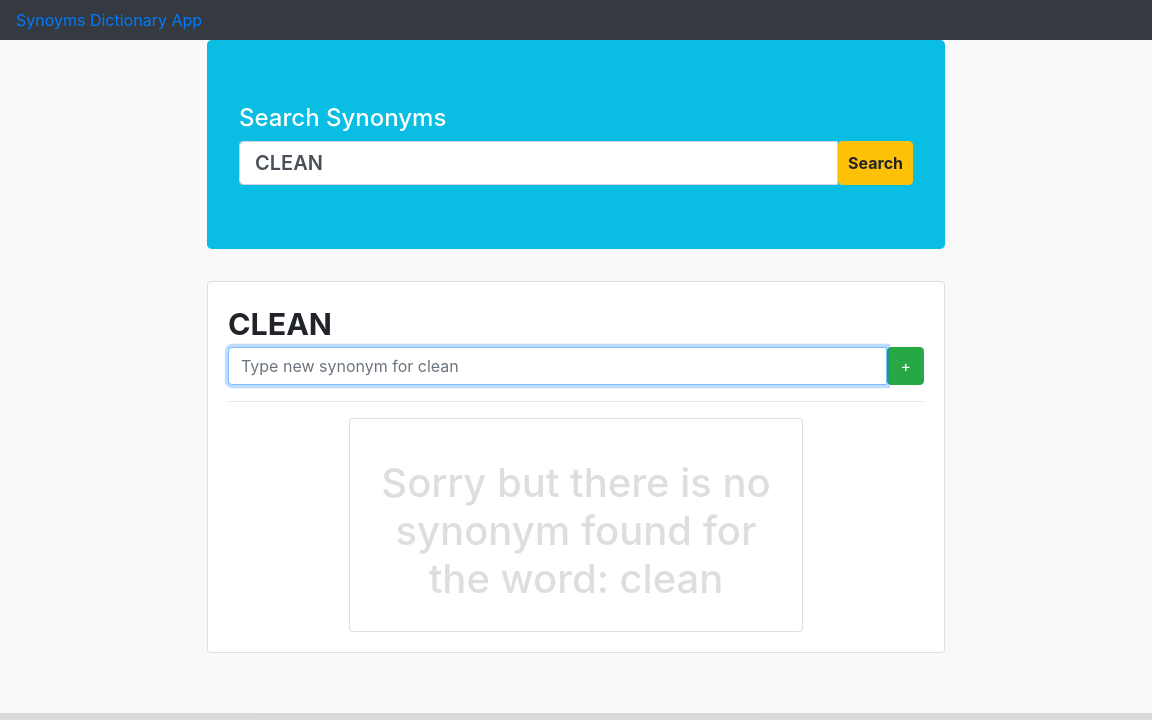
Test: <App/> › Adding synonyms › When the add button is pressed, if the input field has text, it displays synonyms
Type "Clear" into the field with class "synonym-input". click: (558, 366)
box: [228,347,887,385]
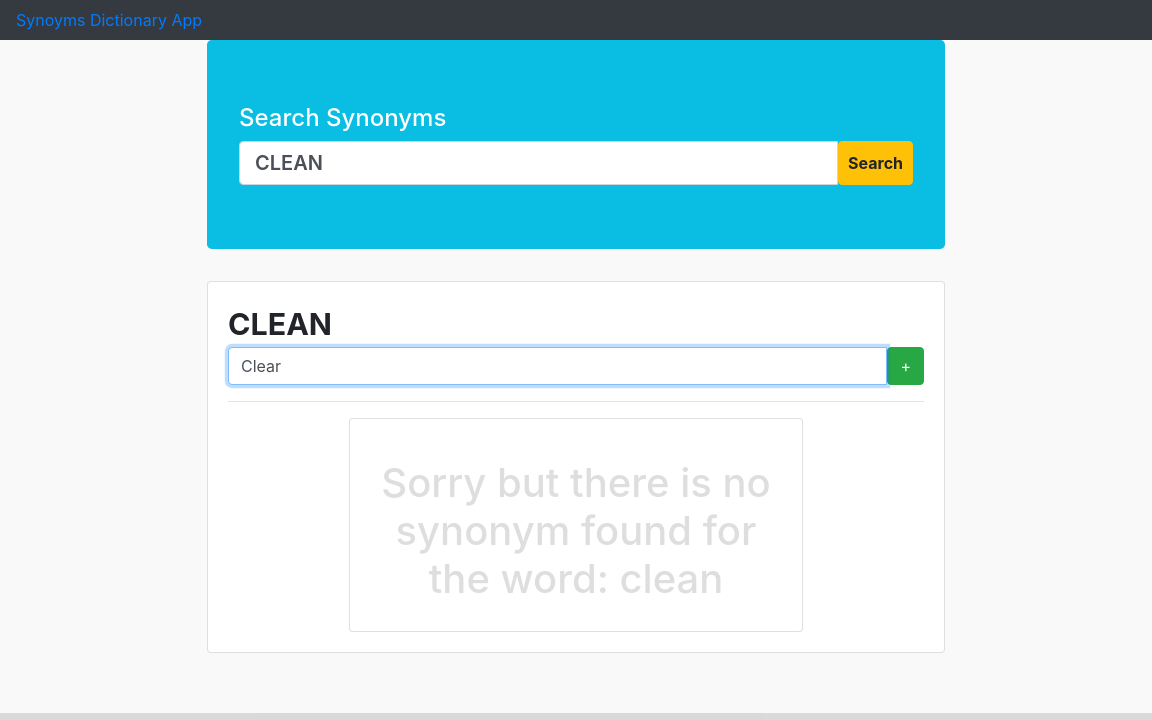
Click the button with class "btn-success". click: click(906, 366)
box: [887,347,924,385]
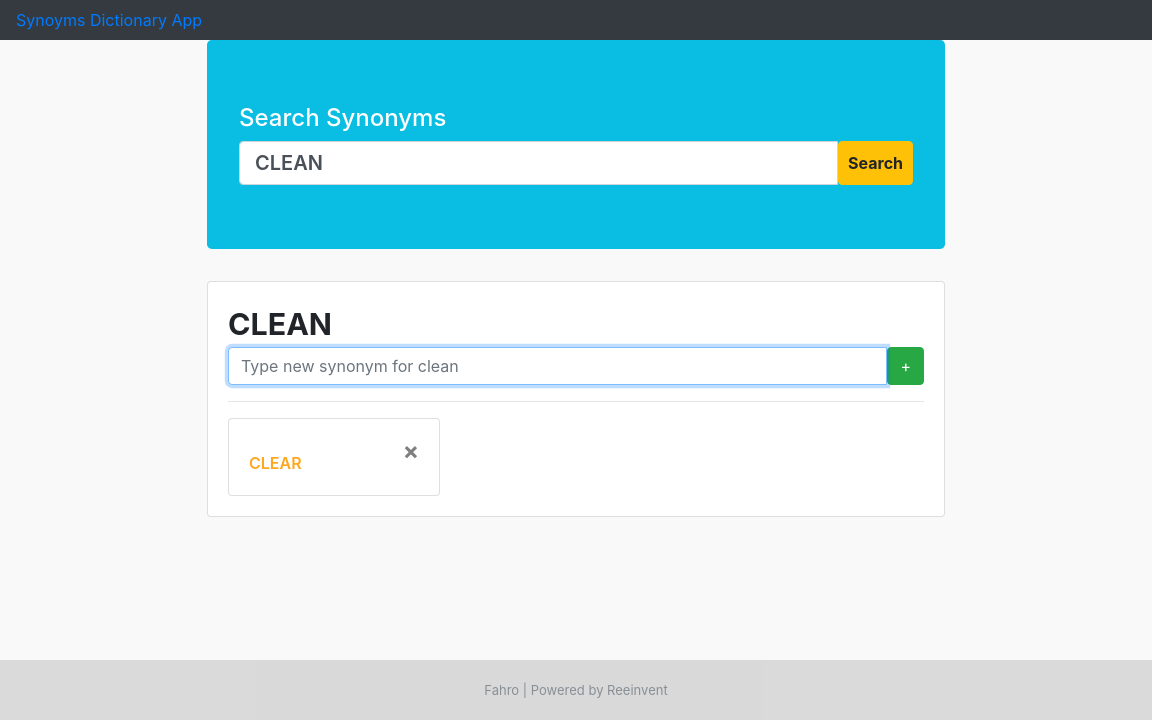
Check: the text "clear" is shown, box [249,453,302,473]
